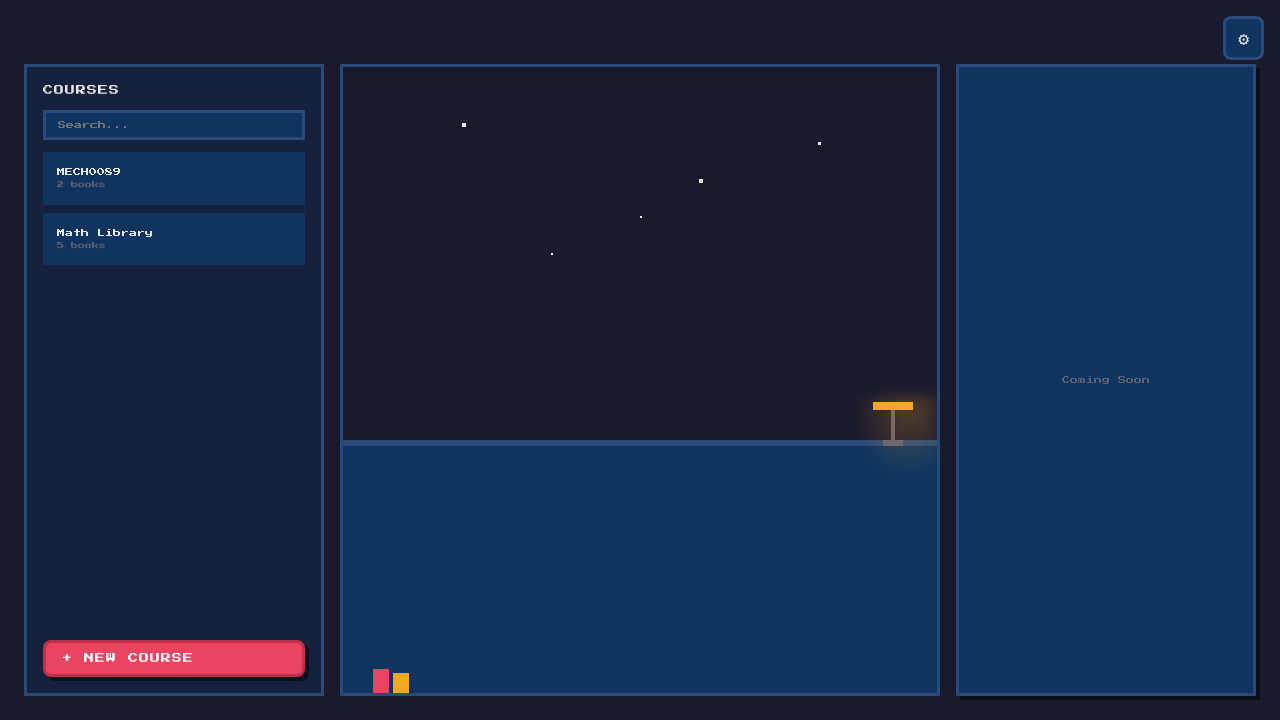
Test: BookshelfPage › Upload button is visible when a non-Math-Library course is selected
Step 1. Click the button titled "MECH0089" → [89, 172], box left=43, top=152, right=305, bottom=204
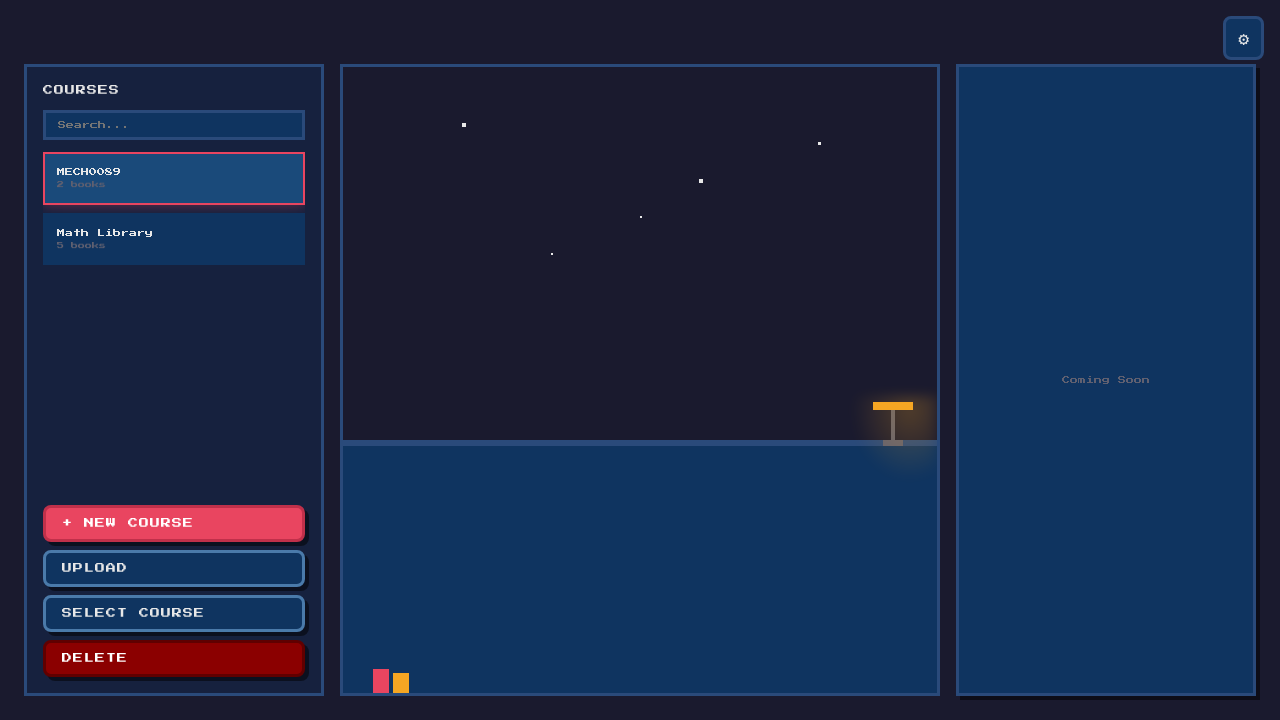
Check: the button "Upload" is shown, box left=43, top=550, right=305, bottom=587
